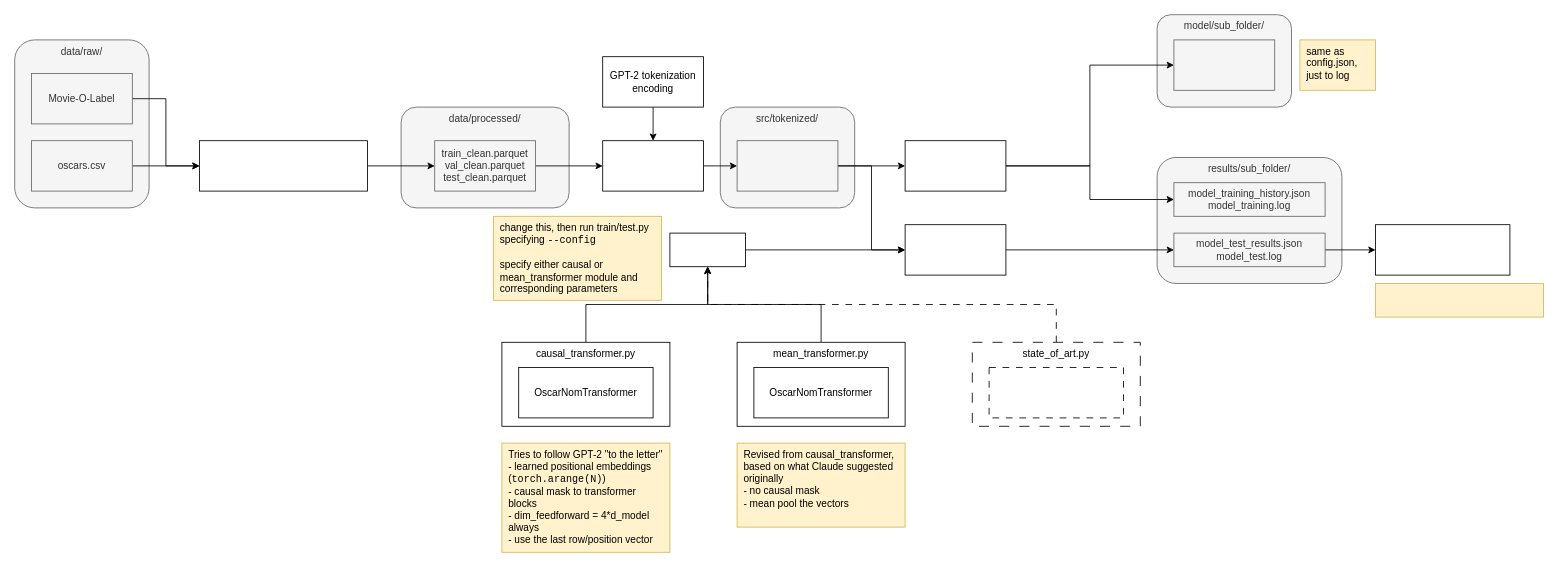
The diagram is 1558 pixels wide and 567 high, and some of its shapes have lost their labels. The shapes that lost their labels are listed below. From the top down, each one's centre as x and y in pixels, then its label:
At (x=1224, y=64): "model_best.pth model_latest.pth model_config.json".
At (x=283, y=165): "00_data_processing.ipynb".
At (x=653, y=165): "token_dataset.py".
At (x=787, y=165): "train_tokenized.pkl val_tokenized.pkl test_tokenized.pkl".
At (x=955, y=165): "train.py".
At (x=707, y=249): "config.json".
At (x=955, y=249): "test.py".
At (x=1442, y=249): "03_test_metrics.ipynb".
At (x=1459, y=300): "Notebook just visualizes metrics, does not run models anymore.".
At (x=1056, y=392): "OscarNomSotA".
